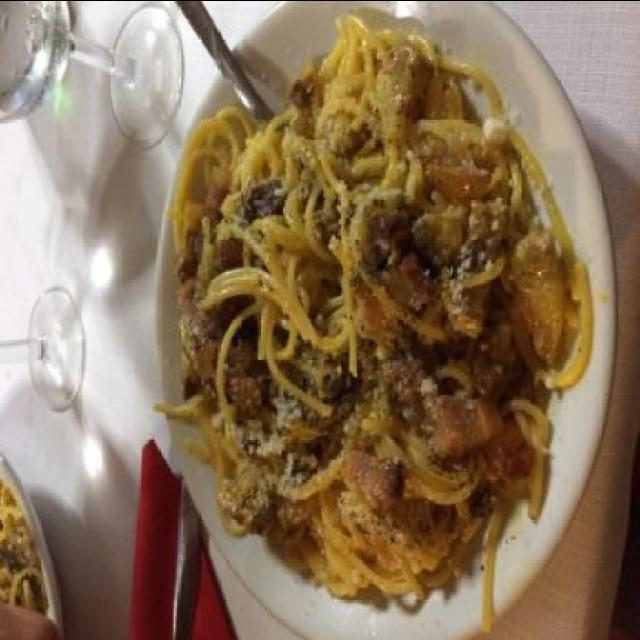Pasta with carbonara sauce: (148, 30, 604, 592)
